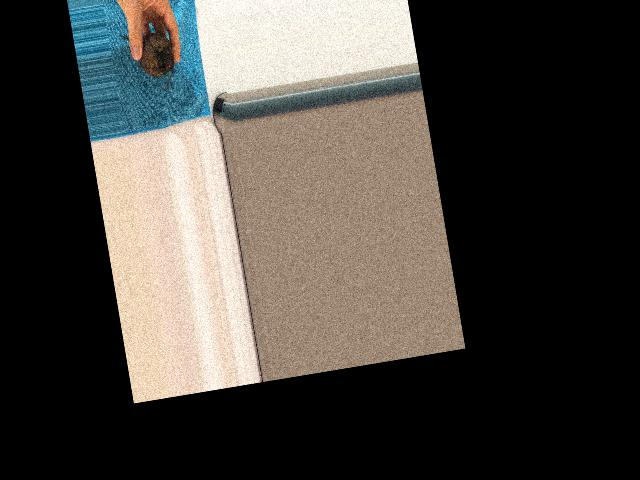beet: (119, 27, 178, 96)
